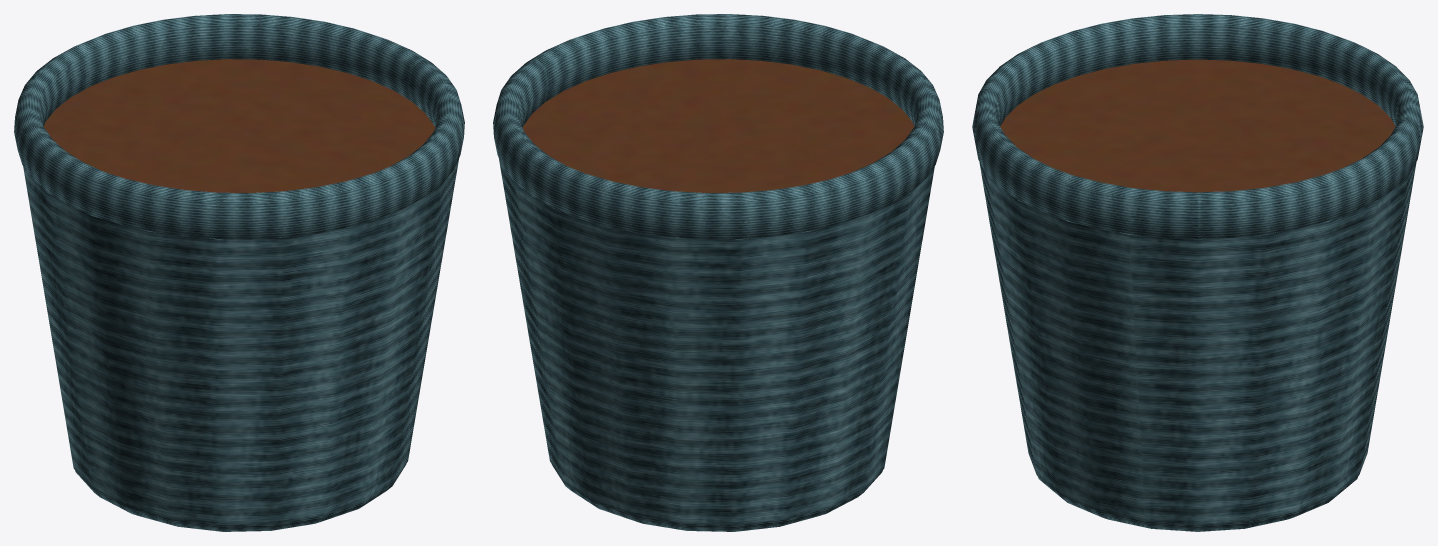
The model's file is wovenpot.fbx.
The picture shows the model from 3 angles, left to right: view 1: azimuth 30°, elevation 25°; view 2: azimuth 150°, elevation 25°; view 3: azimuth 270°, elevation 25°; orthographic projection.
Visible parts, largest first — view 1: pCylinder1, pPipe1, pasted__pCylinder1, pSphere1; view 2: pCylinder1, pPipe1, pasted__pCylinder1, pSphere1; view 3: pCylinder1, pPipe1, pasted__pCylinder1, pSphere1.
Part boxes in pixels (x1,y1,x2,y2): pCylinder1: (23, 159, 458, 524); pPipe1: (14, 14, 464, 239); pasted__pCylinder1: (43, 59, 435, 192); pSphere1: (75, 464, 406, 531); pCylinder1: (499, 159, 934, 524); pPipe1: (493, 14, 943, 239); pasted__pCylinder1: (522, 59, 914, 192); pSphere1: (551, 464, 882, 531); pCylinder1: (979, 162, 1416, 524); pPipe1: (972, 14, 1423, 238); pasted__pCylinder1: (1000, 59, 1395, 192); pSphere1: (1038, 477, 1357, 531).
Bounding box in the file's own units: 2.66 × 2.51 × 2.66.
Materials: 2 (2 with a texture image).
